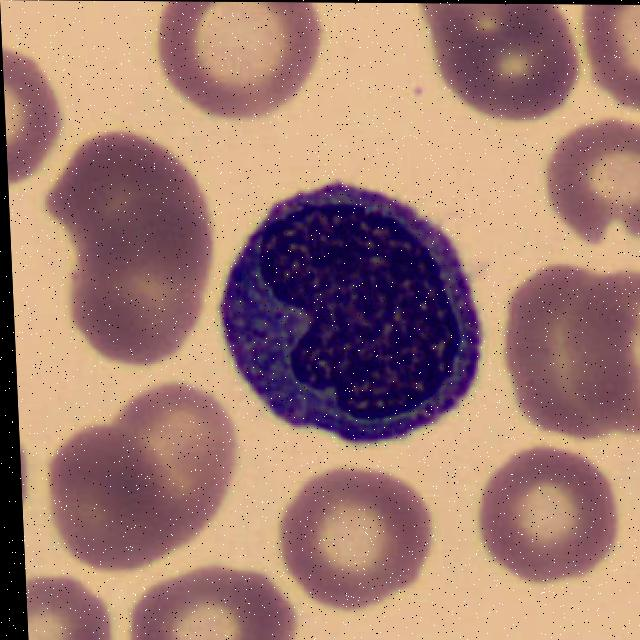monocyte: (222, 179, 498, 435)
rbc: (56, 199, 226, 384), (285, 453, 455, 617), (43, 126, 222, 277), (498, 266, 640, 447), (470, 432, 624, 596), (140, 1, 321, 122), (111, 379, 242, 533), (430, 3, 583, 133), (50, 425, 181, 569), (102, 560, 325, 640), (560, 251, 640, 452), (535, 118, 640, 252), (556, 4, 640, 125), (2, 41, 70, 185), (396, 3, 562, 51), (25, 563, 115, 640)
